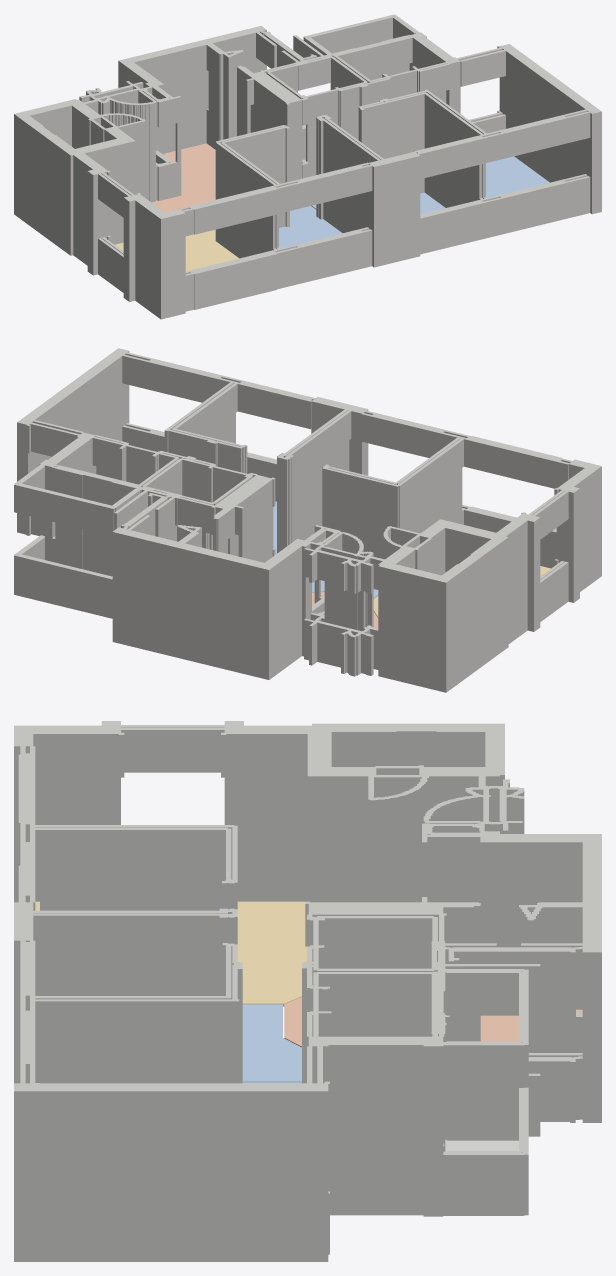
3 renders of one model, top to bottom at view 1: azimuth 30°, elevation 25°; view 2: azimuth 150°, elevation 25°; view 3: azimuth 270°, elevation 25°, orthographic. The views are drawn at different scales.
Parts seen in each view (by area): view 1: walls, room:kitchen:0, room:bedroom:9, room:bedroom:3, room:living:6; view 2: walls; view 3: walls, room:living:6, room:bedroom:3, room:kitchen:0, room:ledge:4.
Boxes of the visible parts, x1,y1,x2,y2 form: walls: (14, 14, 601, 319); room:kitchen:0: (151, 143, 215, 212); room:bedroom:9: (486, 156, 549, 197); room:bedroom:3: (279, 206, 342, 248); room:living:6: (115, 229, 238, 271); walls: (14, 348, 601, 692); walls: (14, 721, 601, 1261); room:living:6: (35, 901, 306, 1006); room:bedroom:3: (242, 1004, 301, 1082); room:kitchen:0: (284, 997, 582, 1047); room:ledge:4: (445, 1139, 518, 1151).
Size of the model in its own units: 13.04 by 2.8 by 8.75.
